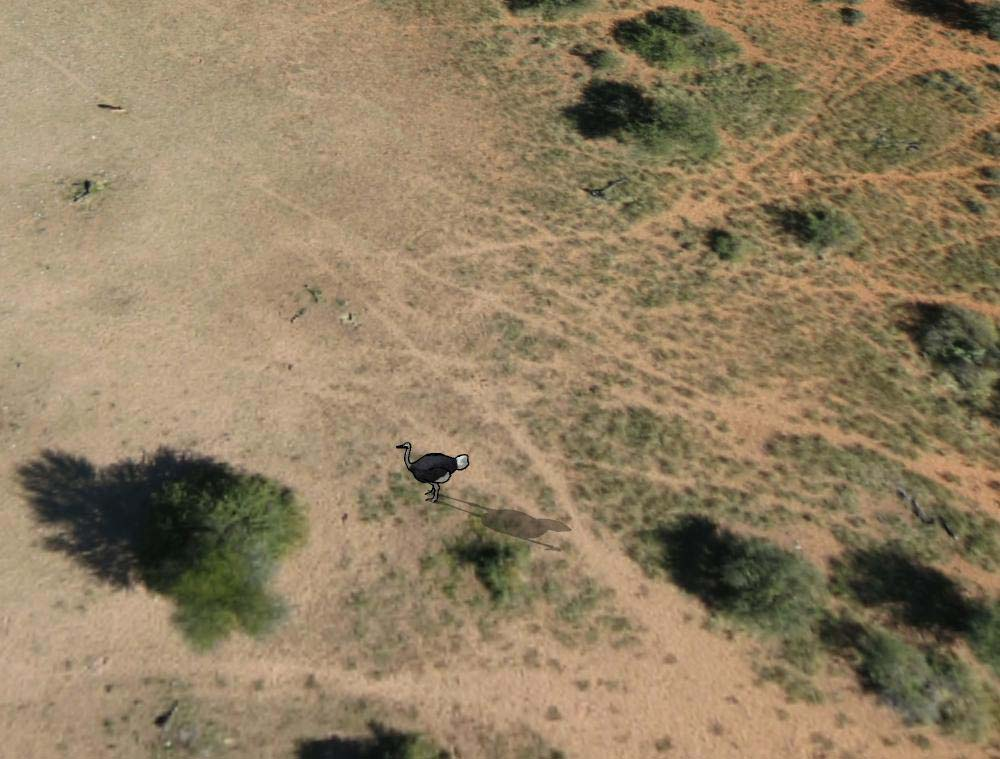springbok: (395, 431, 469, 504)
